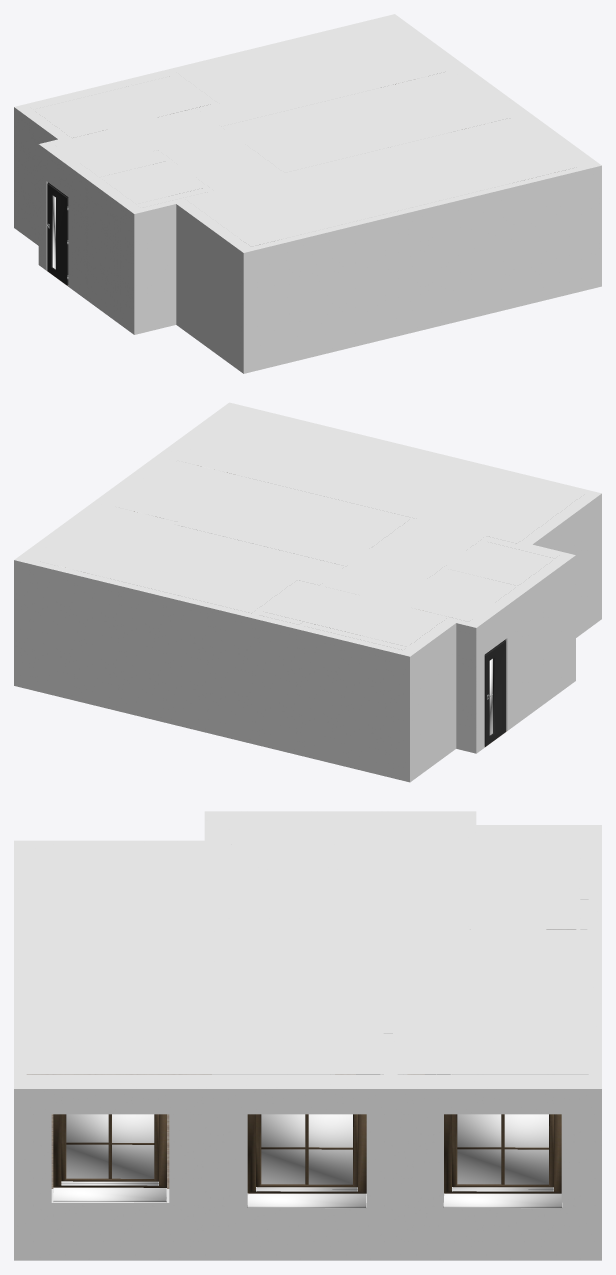
File: apt-2room.glb
3 renders of one model, top to bottom at view 1: azimuth 30°, elevation 25°; view 2: azimuth 150°, elevation 25°; view 3: azimuth 270°, elevation 25°, orthographic. The views are drawn at different scales.
Parts seen in each view (by area): view 1: Walls, Ceiling, dvere; view 2: Walls, Ceiling, dvere; view 3: Ceiling, Walls, window.002, window.004, window.001, Floor.
Boxes of the visible parts, x1,y1,x2,y2 form: Walls: (14,14,601,373); Ceiling: (30,22,576,246); dvere: (46,183,68,285); Walls: (14,402,601,782); Ceiling: (40,411,584,649); dvere: (484,641,505,746); Ceiling: (26,811,588,1074); Walls: (14,811,601,1260); window.002: (247,1114,366,1208); window.004: (443,1114,562,1208); window.001: (53,1114,166,1202); Floor: (27,1074,424,1188).
Bounding box in the file's own units: 9.55 × 2.7 × 8.38.
Materials: 17 (5 with a texture image).
